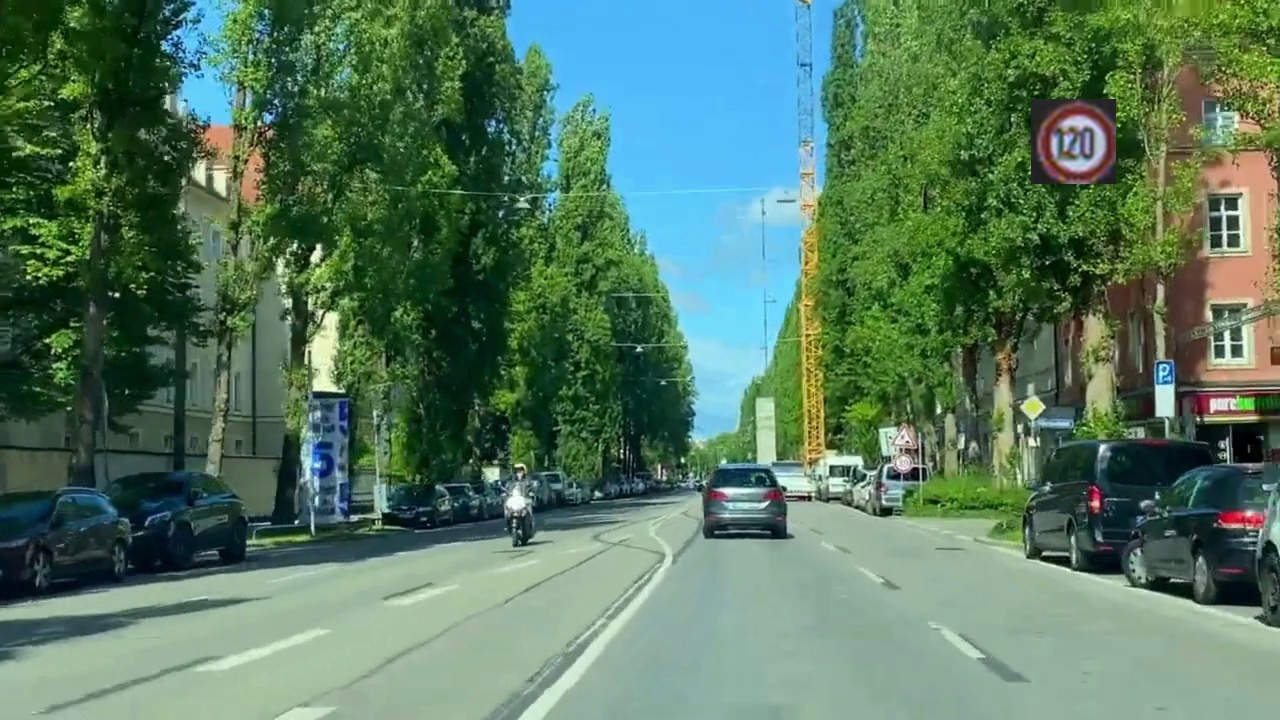Speed 120: (1031, 99, 1116, 184)
